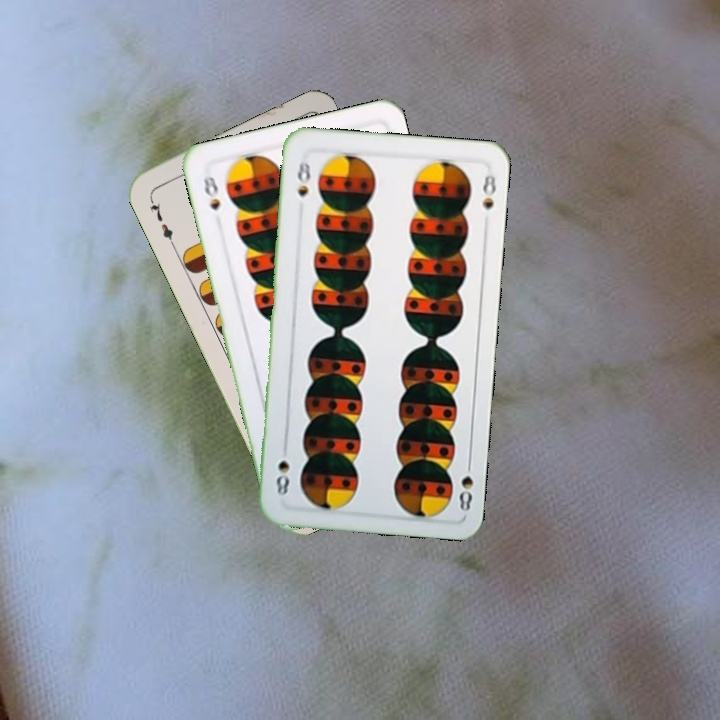E7: (145, 193, 177, 249)
S8: (455, 455, 476, 514), (199, 172, 223, 214), (293, 157, 313, 199)
